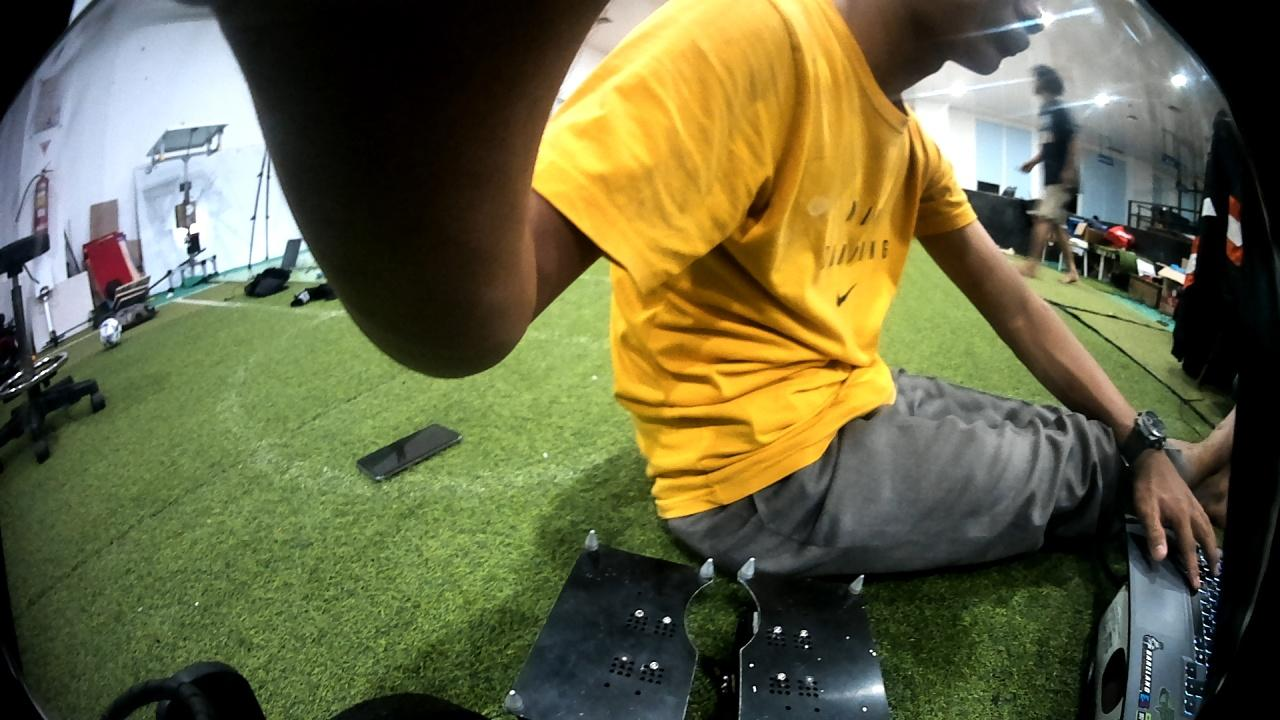ball: (99, 315, 127, 351)
